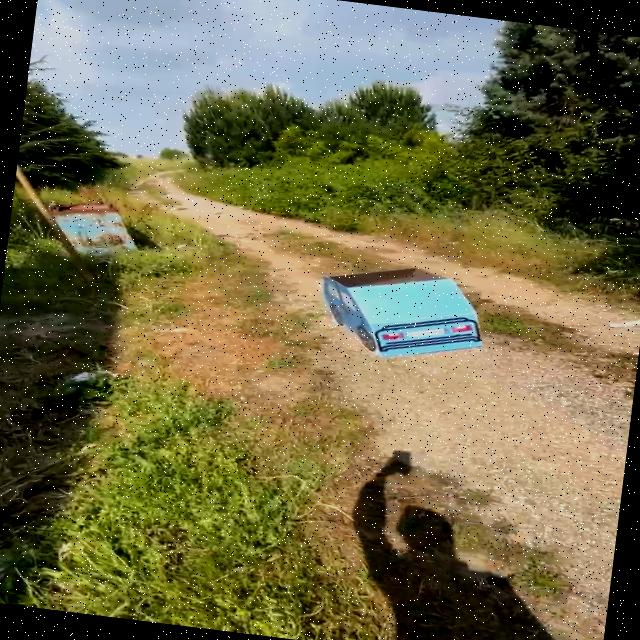blue_car: (303, 246, 514, 380)
